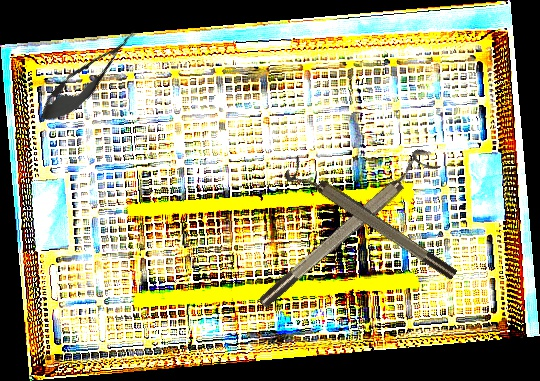Fixation Ring: (249, 143, 442, 312), (282, 154, 460, 291)
Micro Scissor: (29, 19, 147, 135)
